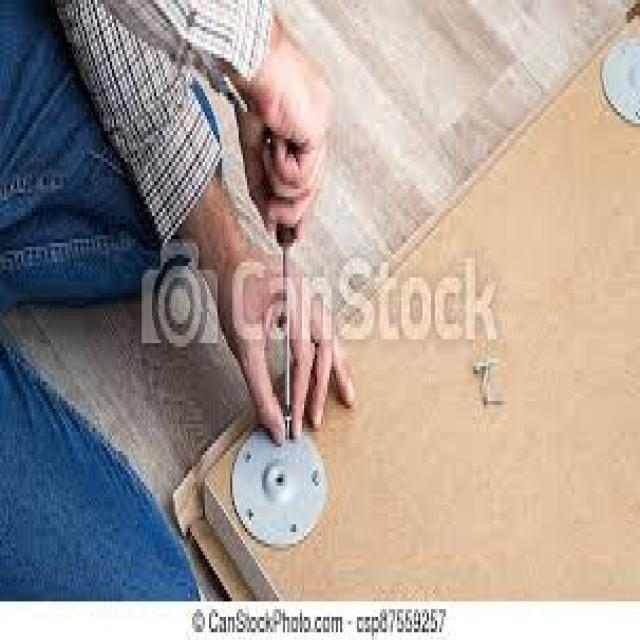screwdriver: (270, 89, 306, 452)
